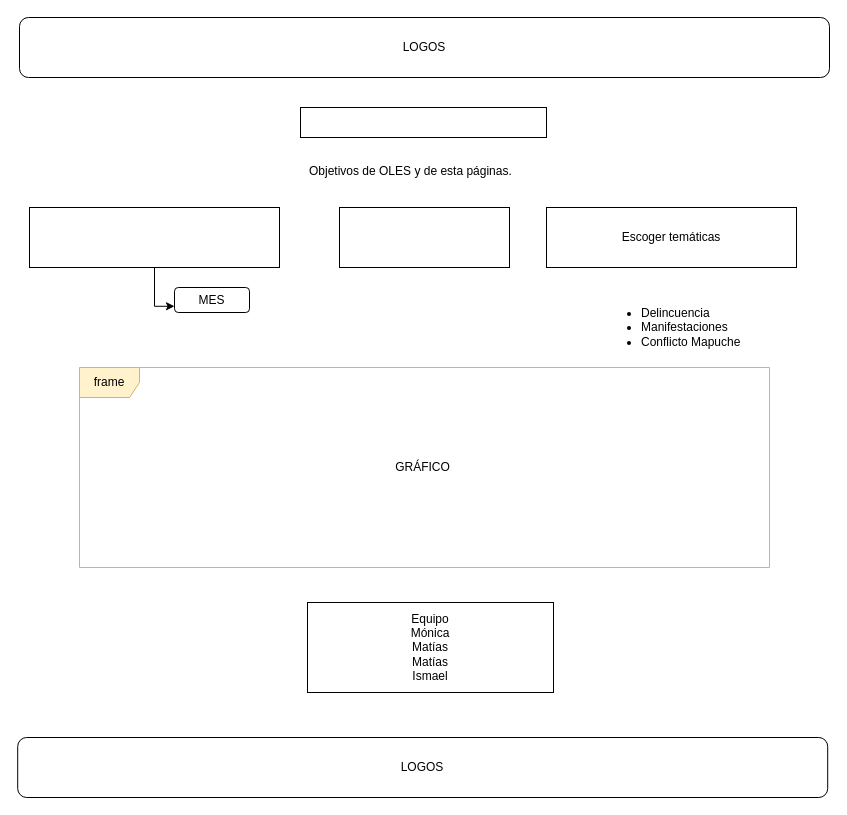
This 847x815 diagram has some shape labels left out. Here are the shapes that lost their labels. From the top down, the centre of each, then its label:
At [423,122]: "Título OLES".
At [154,237]: "Escoger el año".
At [424,237]: "Escoger el medio disponible".
